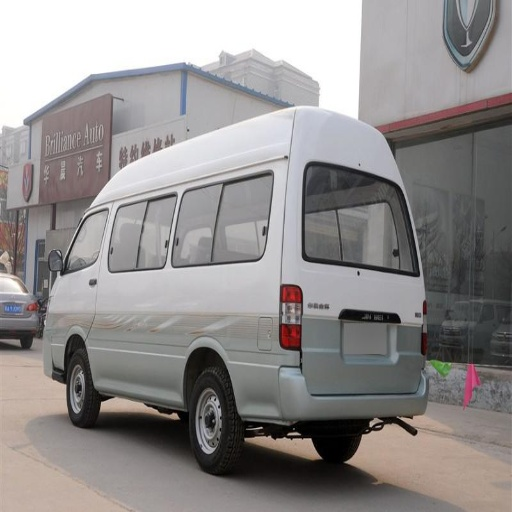back_bumper: (268, 365, 425, 423)
back_glass: (346, 222, 411, 271)
back_left_light: (279, 289, 301, 350)
trunk: (108, 268, 424, 417)
